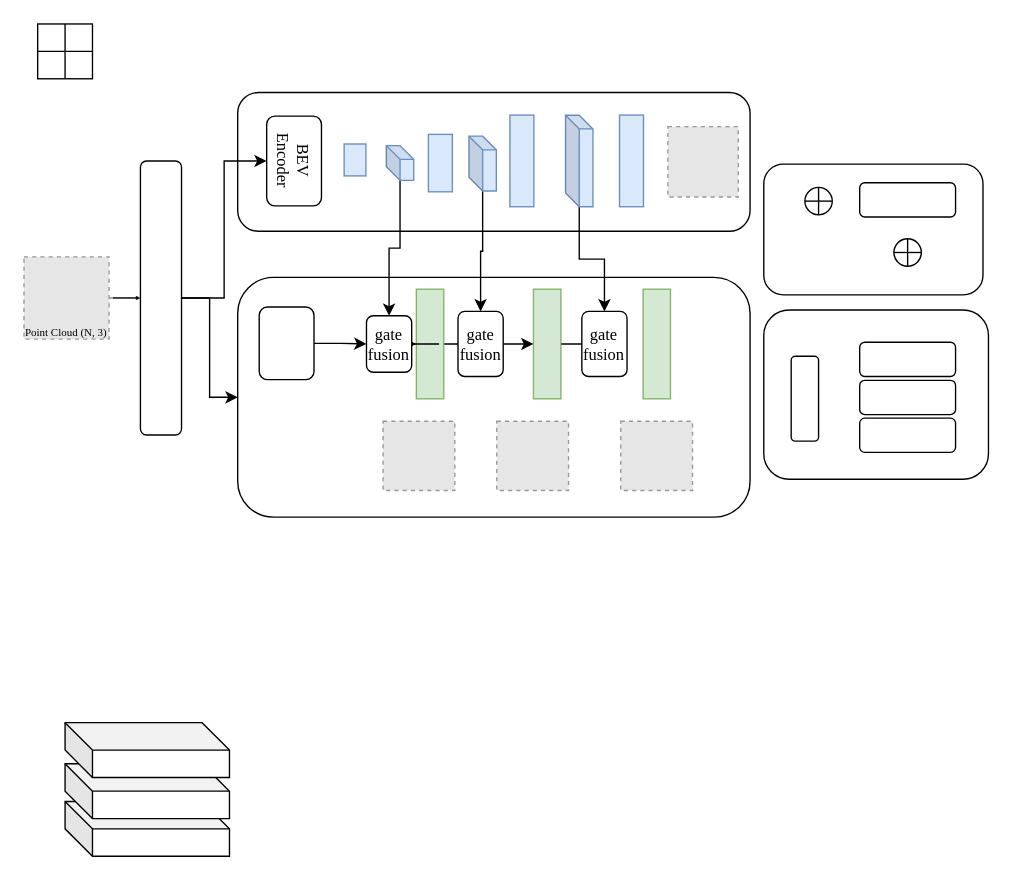
Some shapes in this 1012 by 881 pixel diagram are drawn without their labels. Grey dashed boxes stand in for pictures. The shapes that lost their labels are listed below. From the top down, each one's box as (x1, y1, x2, y2) in pixels, then its label:
(139, 160, 182, 435): pretrain feature
(258, 306, 314, 380): 3D Encoder
